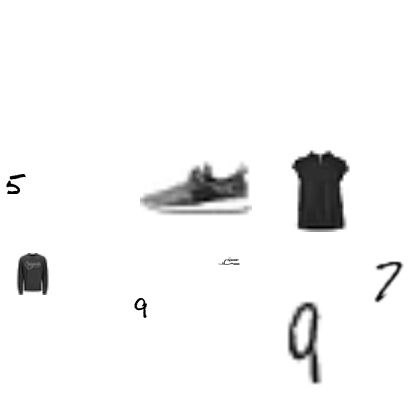5: (0, 170, 28, 198)
7: (359, 250, 415, 306)
9: (249, 283, 361, 395), (127, 292, 155, 320)
Pullover: (11, 253, 53, 295)
Sandal: (218, 250, 240, 272)
Shirt: (277, 148, 361, 232)
Sneaker: (140, 130, 252, 242)
